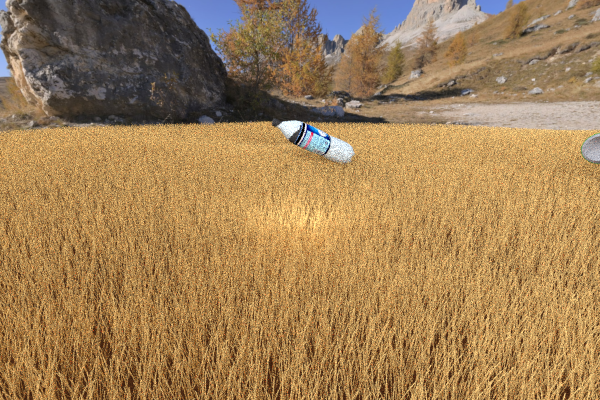Plastic Bottle: (271, 118, 354, 164), (158, 122, 195, 142), (580, 130, 600, 164)
